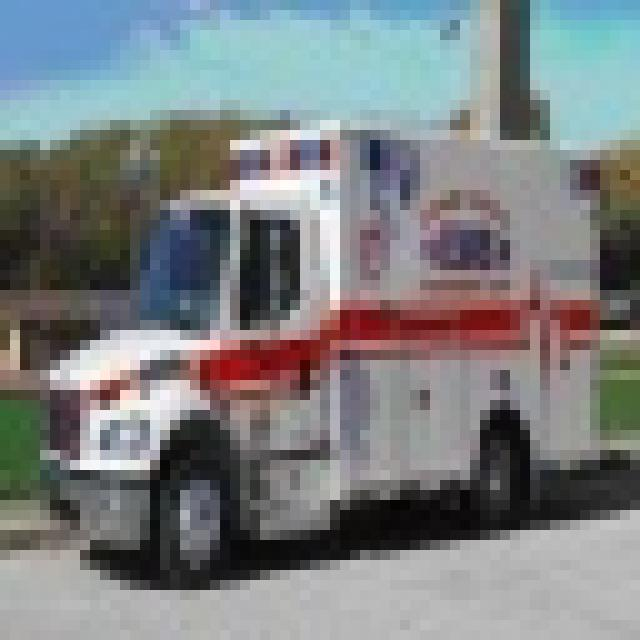Ambulance: (30, 110, 600, 580)
